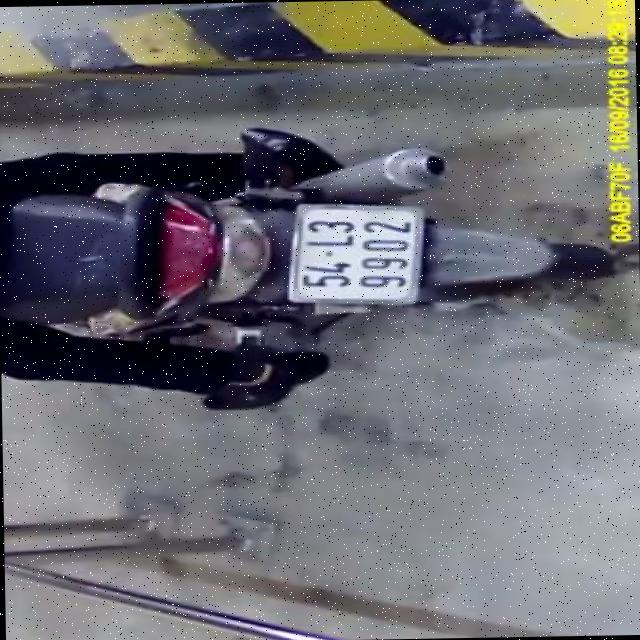license_plate: (285, 205, 432, 304)
